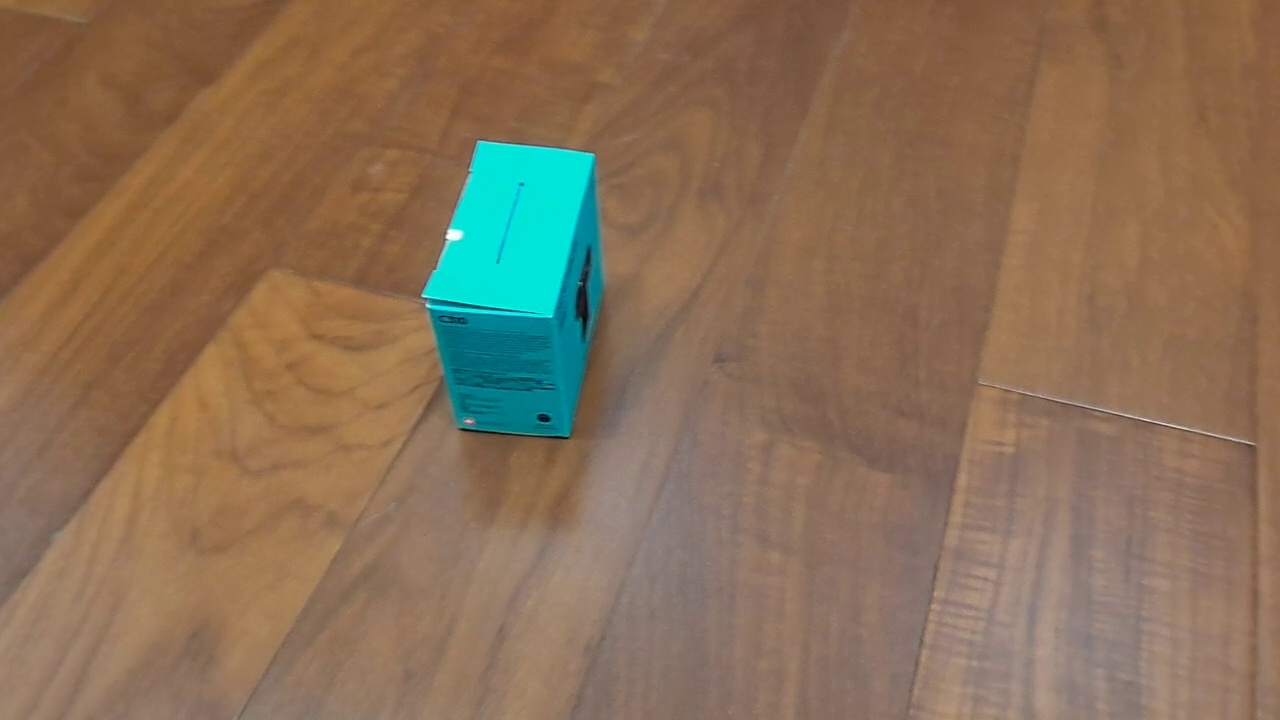webcam: (419, 135, 607, 442)
